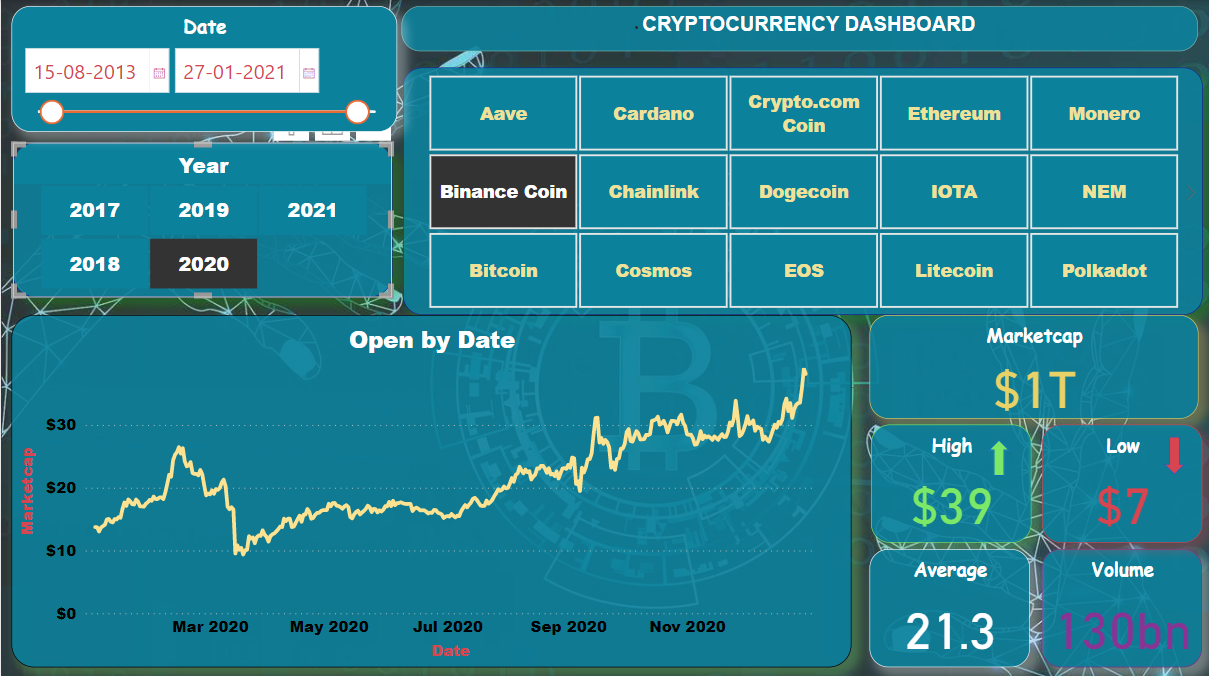

The page's visual inventory and layout, read from the dashboard file:
{"tool":"powerbi","page":{"name":"Page 1","canvas":[1280,720],"ordinal":0},"visuals":[{"type":"slicer","title":"Cryptocurrency","fields":{"Values":["archive.Name"]},"box":[426,71.5,847.2,262.3],"z":0},{"type":"slicer","title":"Year","fields":{"Values":["archive.Years"]},"box":[12.7,151,402.1,163.7],"z":1000},{"type":"lineChart","fields":{"Category":["archive.Date"],"Y":["Sum(archive.Open)"]},"box":[11.6,333.2,889.7,373.6],"z":2000},{"type":"textbox","box":[424.4,6.4,844,47.7],"z":3000},{"type":"card","title":"Marketcap","fields":{"Values":["Sum(archive.Marketcap)"]},"box":[920.5,333.2,348.6,109.8],"z":4000},{"type":"card","title":"Volume","fields":{"Values":["Sum(archive.Volume)"]},"box":[1103.5,581.6,169.5,125.2],"z":5000},{"type":"card","title":"High","fields":{"Values":["Max(archive.High)"]},"box":[922.3,450.5,170.1,125.6],"z":6000},{"type":"card","title":"Low","fields":{"Values":["Min(archive.Low)"]},"box":[1103.5,450.5,170.1,125.6],"z":7000},{"type":"card","title":"Average","fields":{"Values":["Avg(archive.Average)"]},"box":[920.3,581.4,170.1,125.6],"z":8000},{"type":"shape","box":[1045.7,466,23.1,38.5],"z":9000},{"type":"shape","box":[1232.5,462.2,23.1,40.4],"z":10000},{"type":"slicer","title":"Date","fields":{"Values":["archive.Date"]},"box":[11.1,6.4,408.5,133.5],"z":11000}]}

Visuals, with their boxes in screenshot pixels (x1, y1, x2, y2), scaled from the page's 1280x720 canvas onto the 1209x676 screenshot:
"Cryptocurrency" slicer: (402, 67, 1203, 313)
"Year" slicer: (12, 142, 392, 295)
lineChart - archive.Date x Sum(archive.Open): (11, 313, 851, 664)
textbox: (401, 6, 1198, 51)
"Marketcap" card: (869, 313, 1199, 416)
"Volume" card: (1042, 546, 1202, 664)
"High" card: (871, 423, 1032, 541)
"Low" card: (1042, 423, 1203, 541)
"Average" card: (869, 546, 1030, 664)
shape: (988, 438, 1010, 474)
shape: (1164, 434, 1186, 472)
"Date" slicer: (10, 6, 396, 131)
